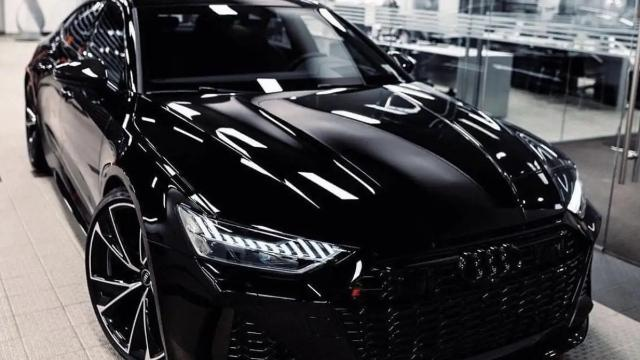audi: (24, 0, 604, 360)
